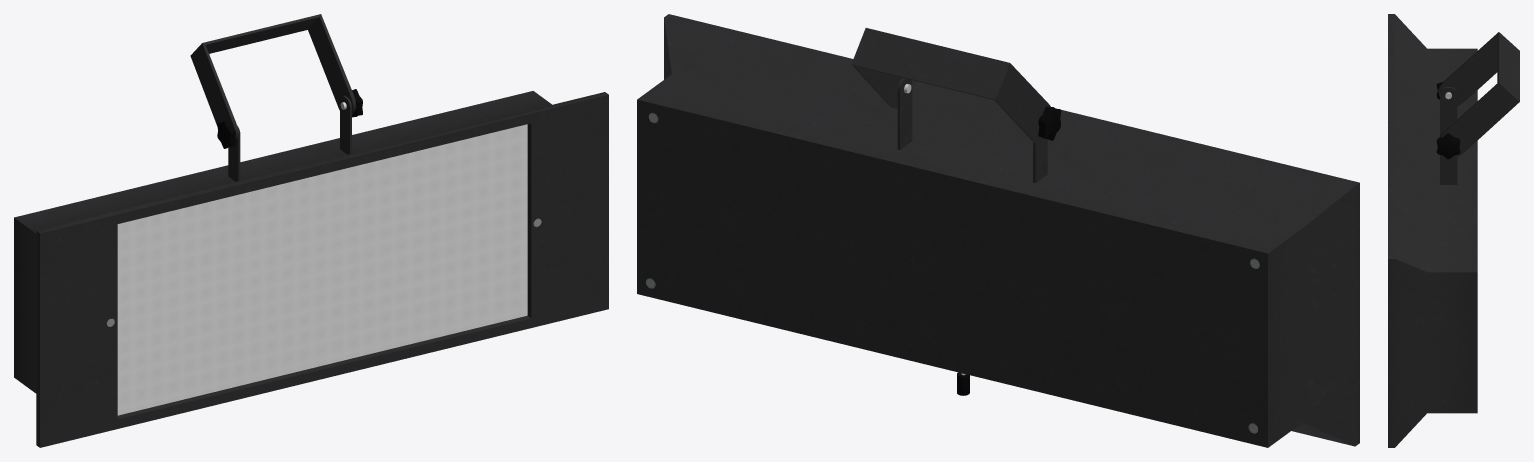
The model's file is DiscoLight05.FBX.
The picture shows the model from 3 angles, left to right: view 1: azimuth 30°, elevation 25°; view 2: azimuth 150°, elevation 25°; view 3: azimuth 270°, elevation 25°; orthographic projection. The views are drawn at different scales.
Visible parts, largest first — view 1: DiscoLight05, DiscoLight05Base; view 2: DiscoLight05, DiscoLight05Base; view 3: DiscoLight05, DiscoLight05Base.
Part boxes in pixels (x1=…): DiscoLight05: x1=14, y1=91, x2=608, y2=447; DiscoLight05Base: x1=190, y1=14, x2=362, y2=148; DiscoLight05: x1=637, y1=14, x2=1359, y2=447; DiscoLight05Base: x1=851, y1=28, x2=1060, y2=143; DiscoLight05: x1=1388, y1=14, x2=1477, y2=447; DiscoLight05Base: x1=1436, y1=32, x2=1519, y2=159.
Size of the model in its own units: 84.64 by 43.23 by 19.25.
